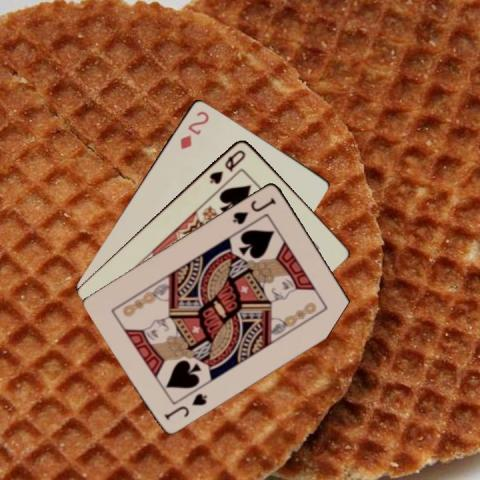2d: (176, 107, 210, 151)
Js: (162, 389, 210, 422), (229, 194, 278, 225)
Qs: (206, 146, 247, 185)
